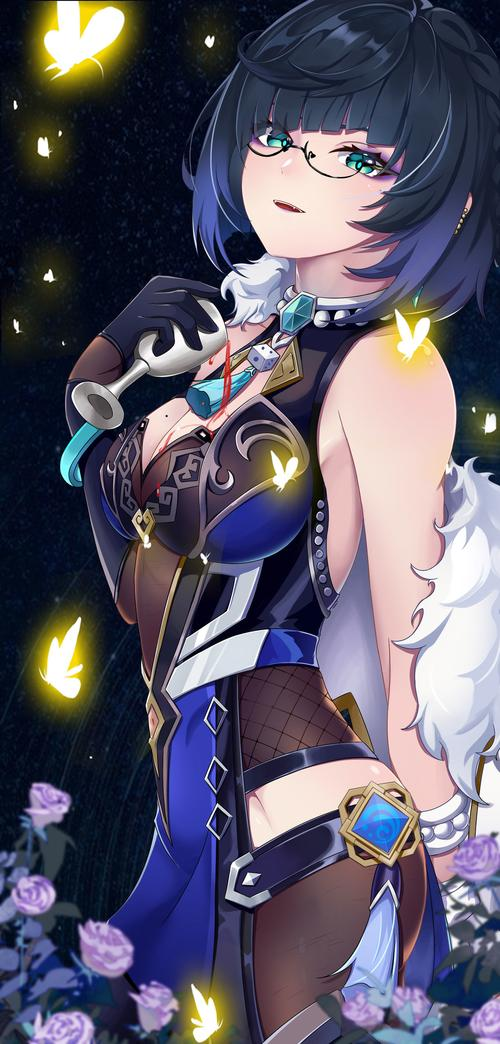夜兰: (66, 8, 500, 1044)
